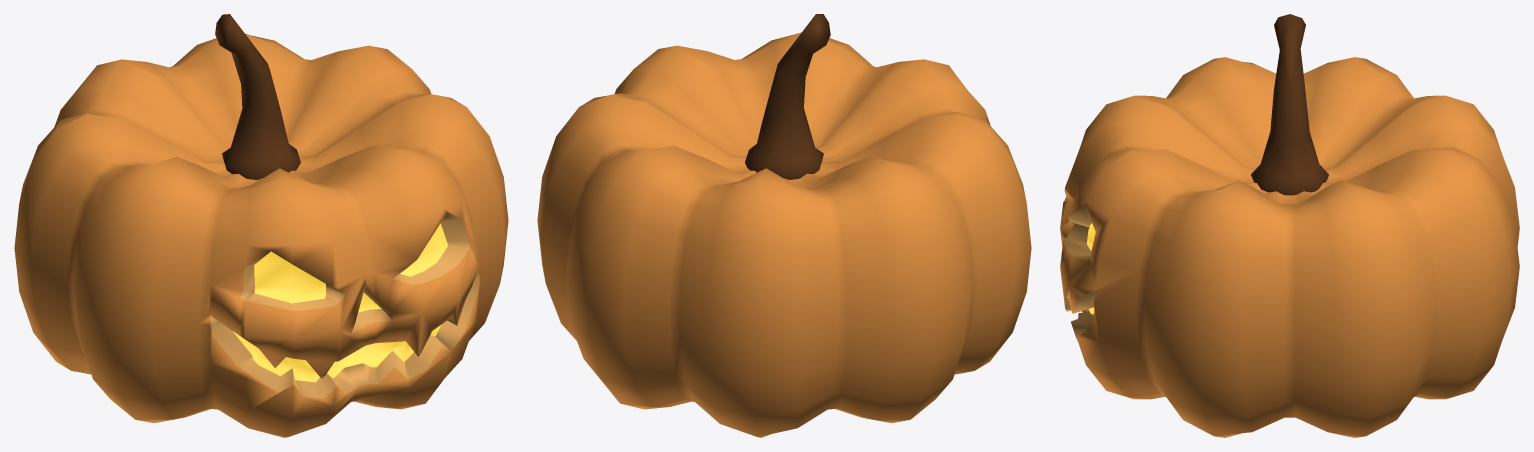
The model's file is JackOLantern.glb.
3 renders of one model, left to right at view 1: azimuth 30°, elevation 25°; view 2: azimuth 150°, elevation 25°; view 3: azimuth 270°, elevation 25°, orthographic. The views are drawn at different scales.
Parts seen in each view (by area): view 1: BasePumpkin.002; view 2: BasePumpkin.002; view 3: BasePumpkin.002.
Part boxes in pixels (x1,y1,x2,y2): BasePumpkin.002: [14, 14, 508, 437]; BasePumpkin.002: [537, 14, 1031, 437]; BasePumpkin.002: [1060, 14, 1519, 437].
Size of the model in its own units: 1.92 by 1.58 by 1.92.
2 materials, 1 textured.
